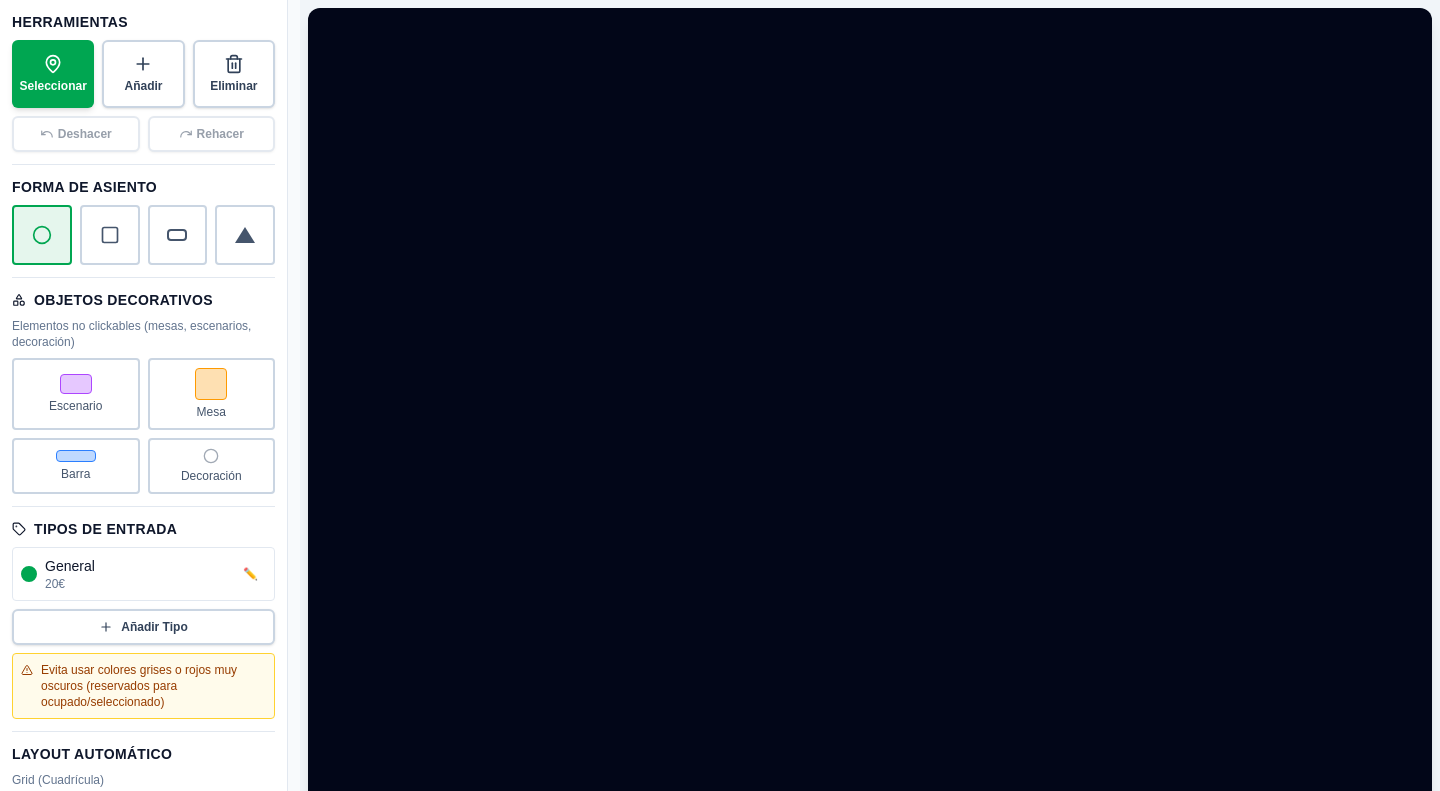
Test: SeatMapEditor › guarda el tipo de entrada al hacer click en Guardar
Click the button "Añadir Tipo" at coordinates (144, 627), box [12, 609, 275, 645]
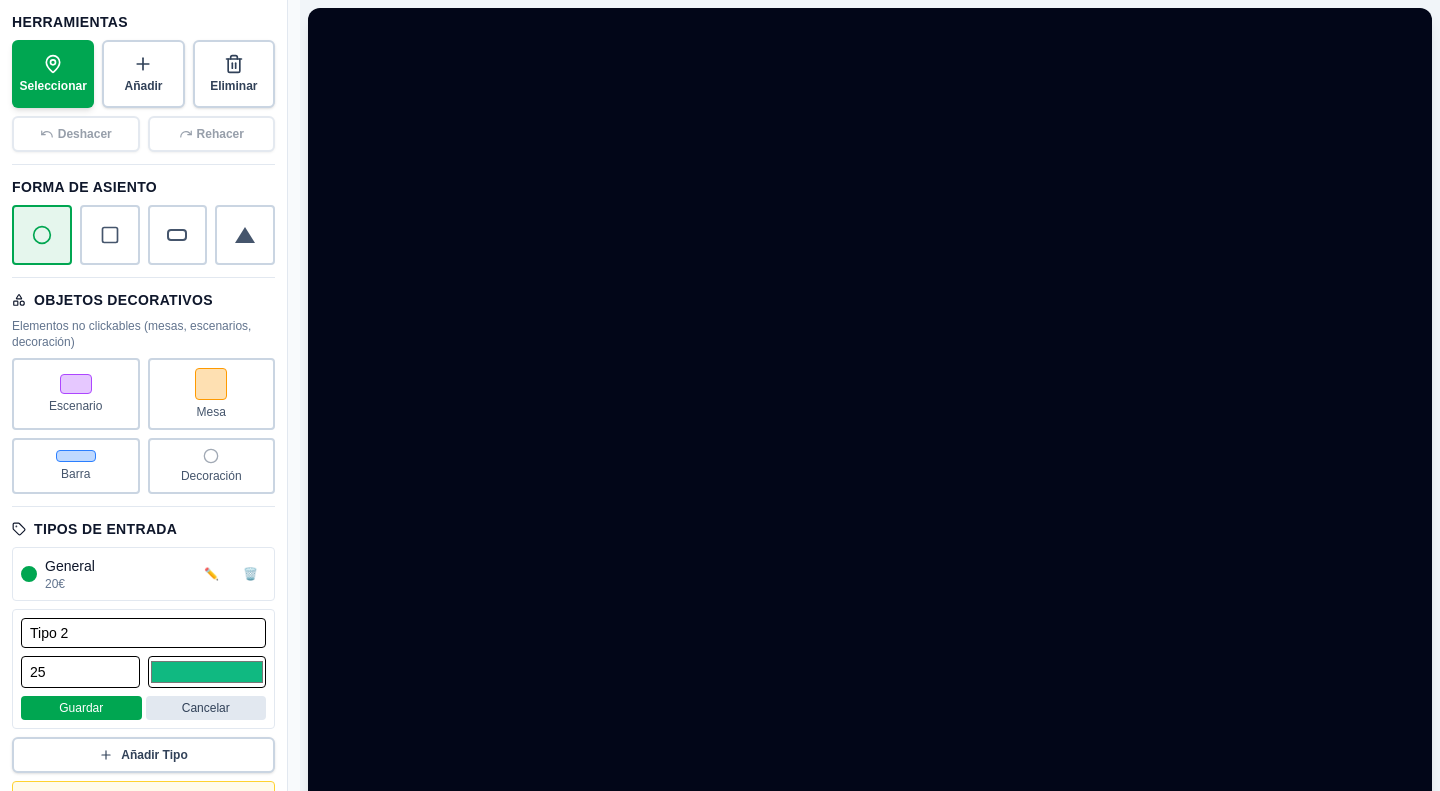
Replace the text in the field with placeholder "Nombre" with "VIP" at coordinates (144, 633), box [21, 618, 266, 648]
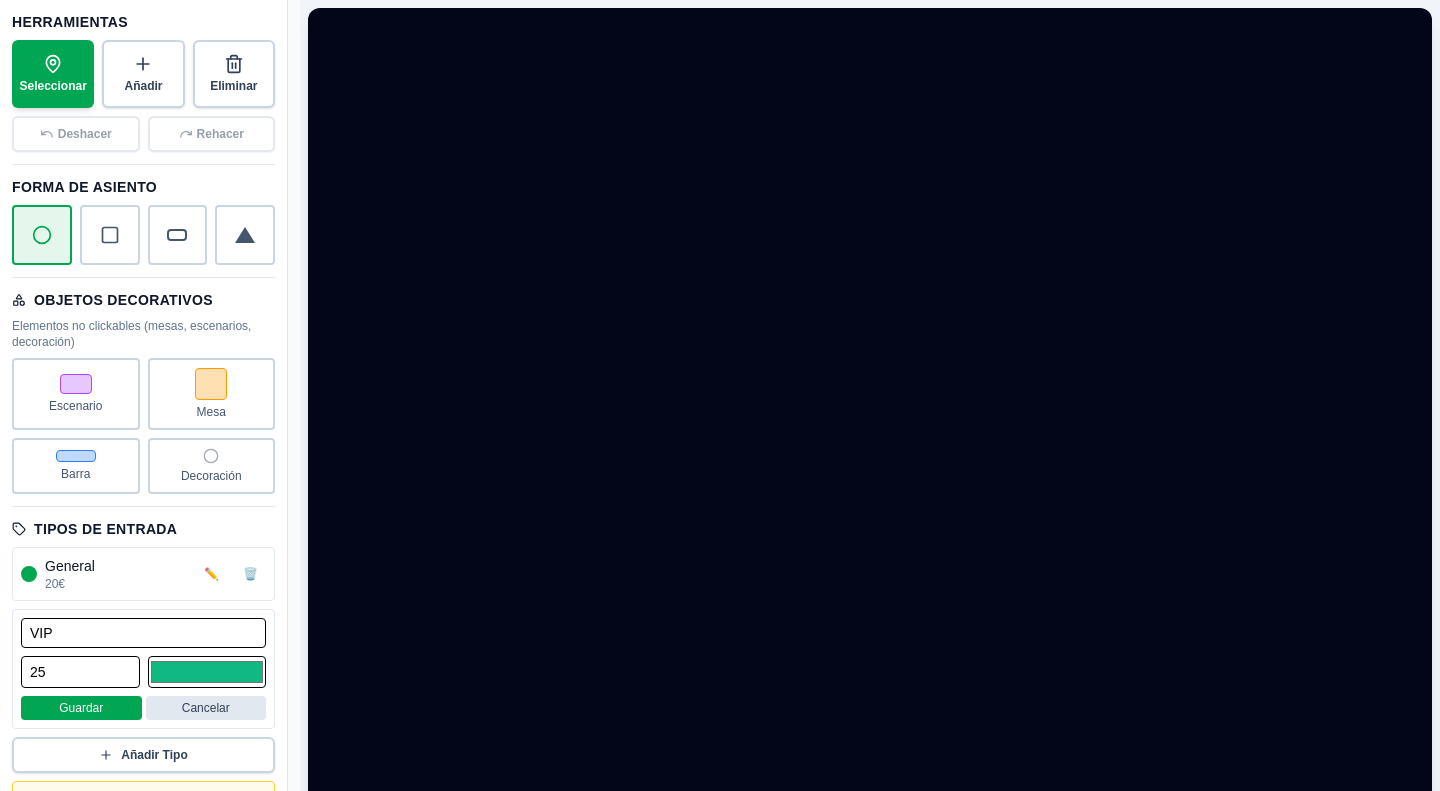
Replace the text in the number field with placeholder "Precio" with "50" at coordinates (80, 672), box [21, 656, 140, 688]
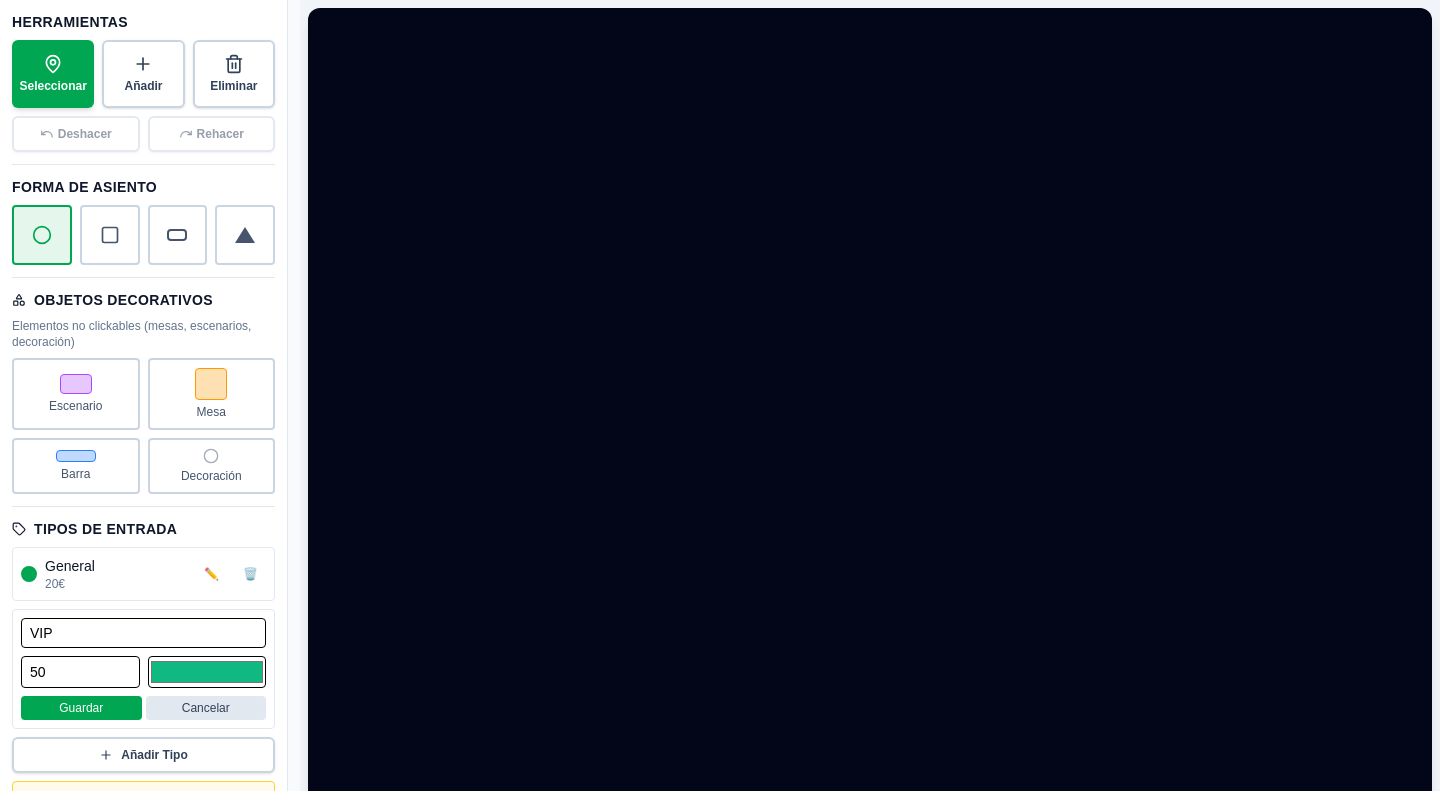
Click the button "Guardar" at coordinates (81, 708), box [21, 696, 142, 720]
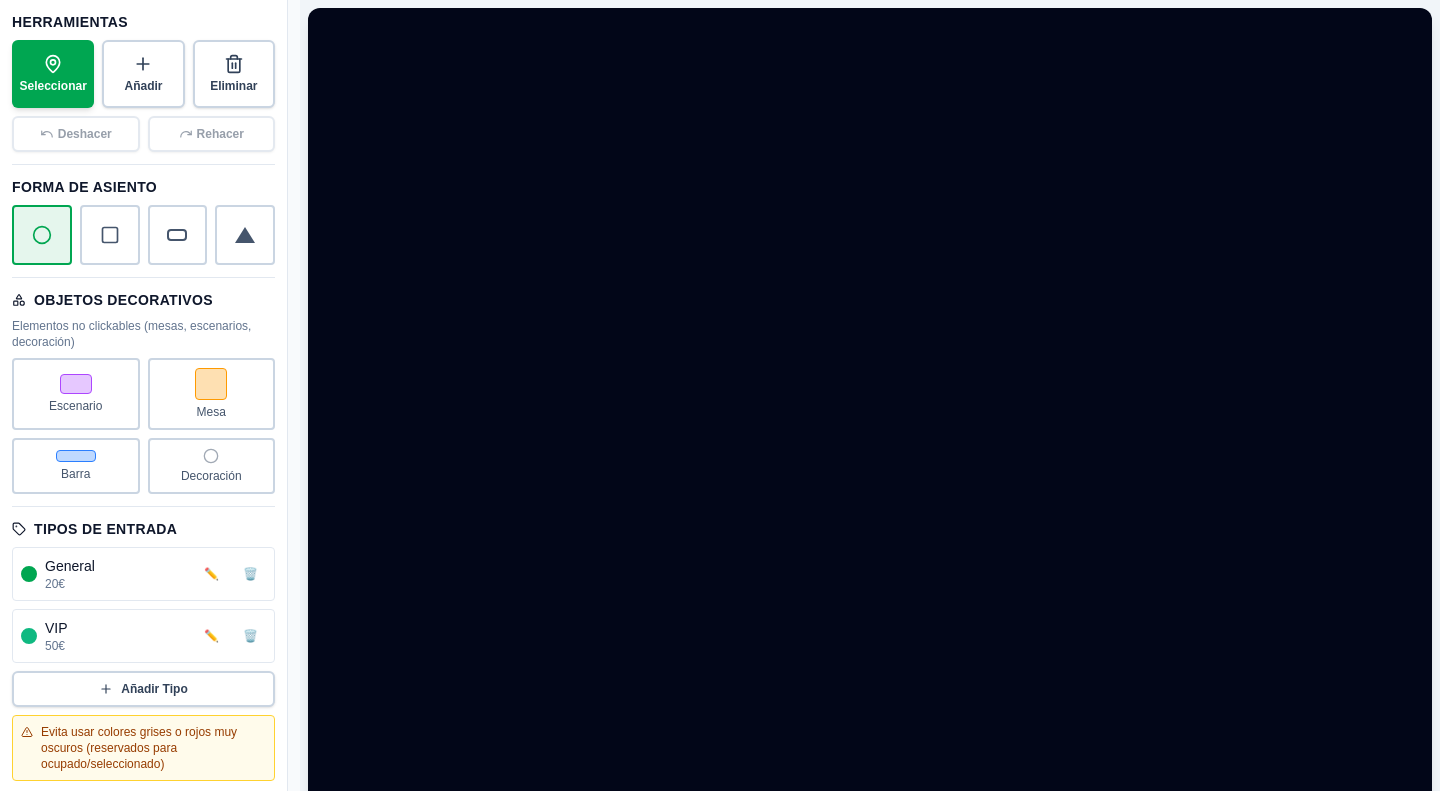
Check: the text "VIP" is shown, box [45, 620, 68, 636]
